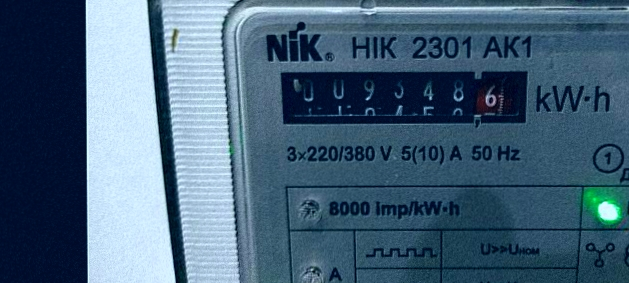0: (300, 77, 316, 103), (331, 74, 345, 100)
3: (392, 75, 406, 100)
4: (419, 73, 437, 103)
6: (482, 80, 499, 109)
8: (451, 75, 466, 103)
9: (362, 77, 376, 104)
screen: (263, 56, 542, 136)
